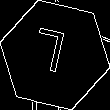L_S: (34, 27, 76, 83)
